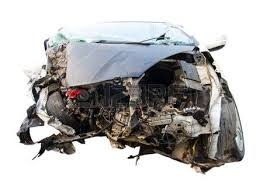Smashed: (24, 39, 216, 155)
